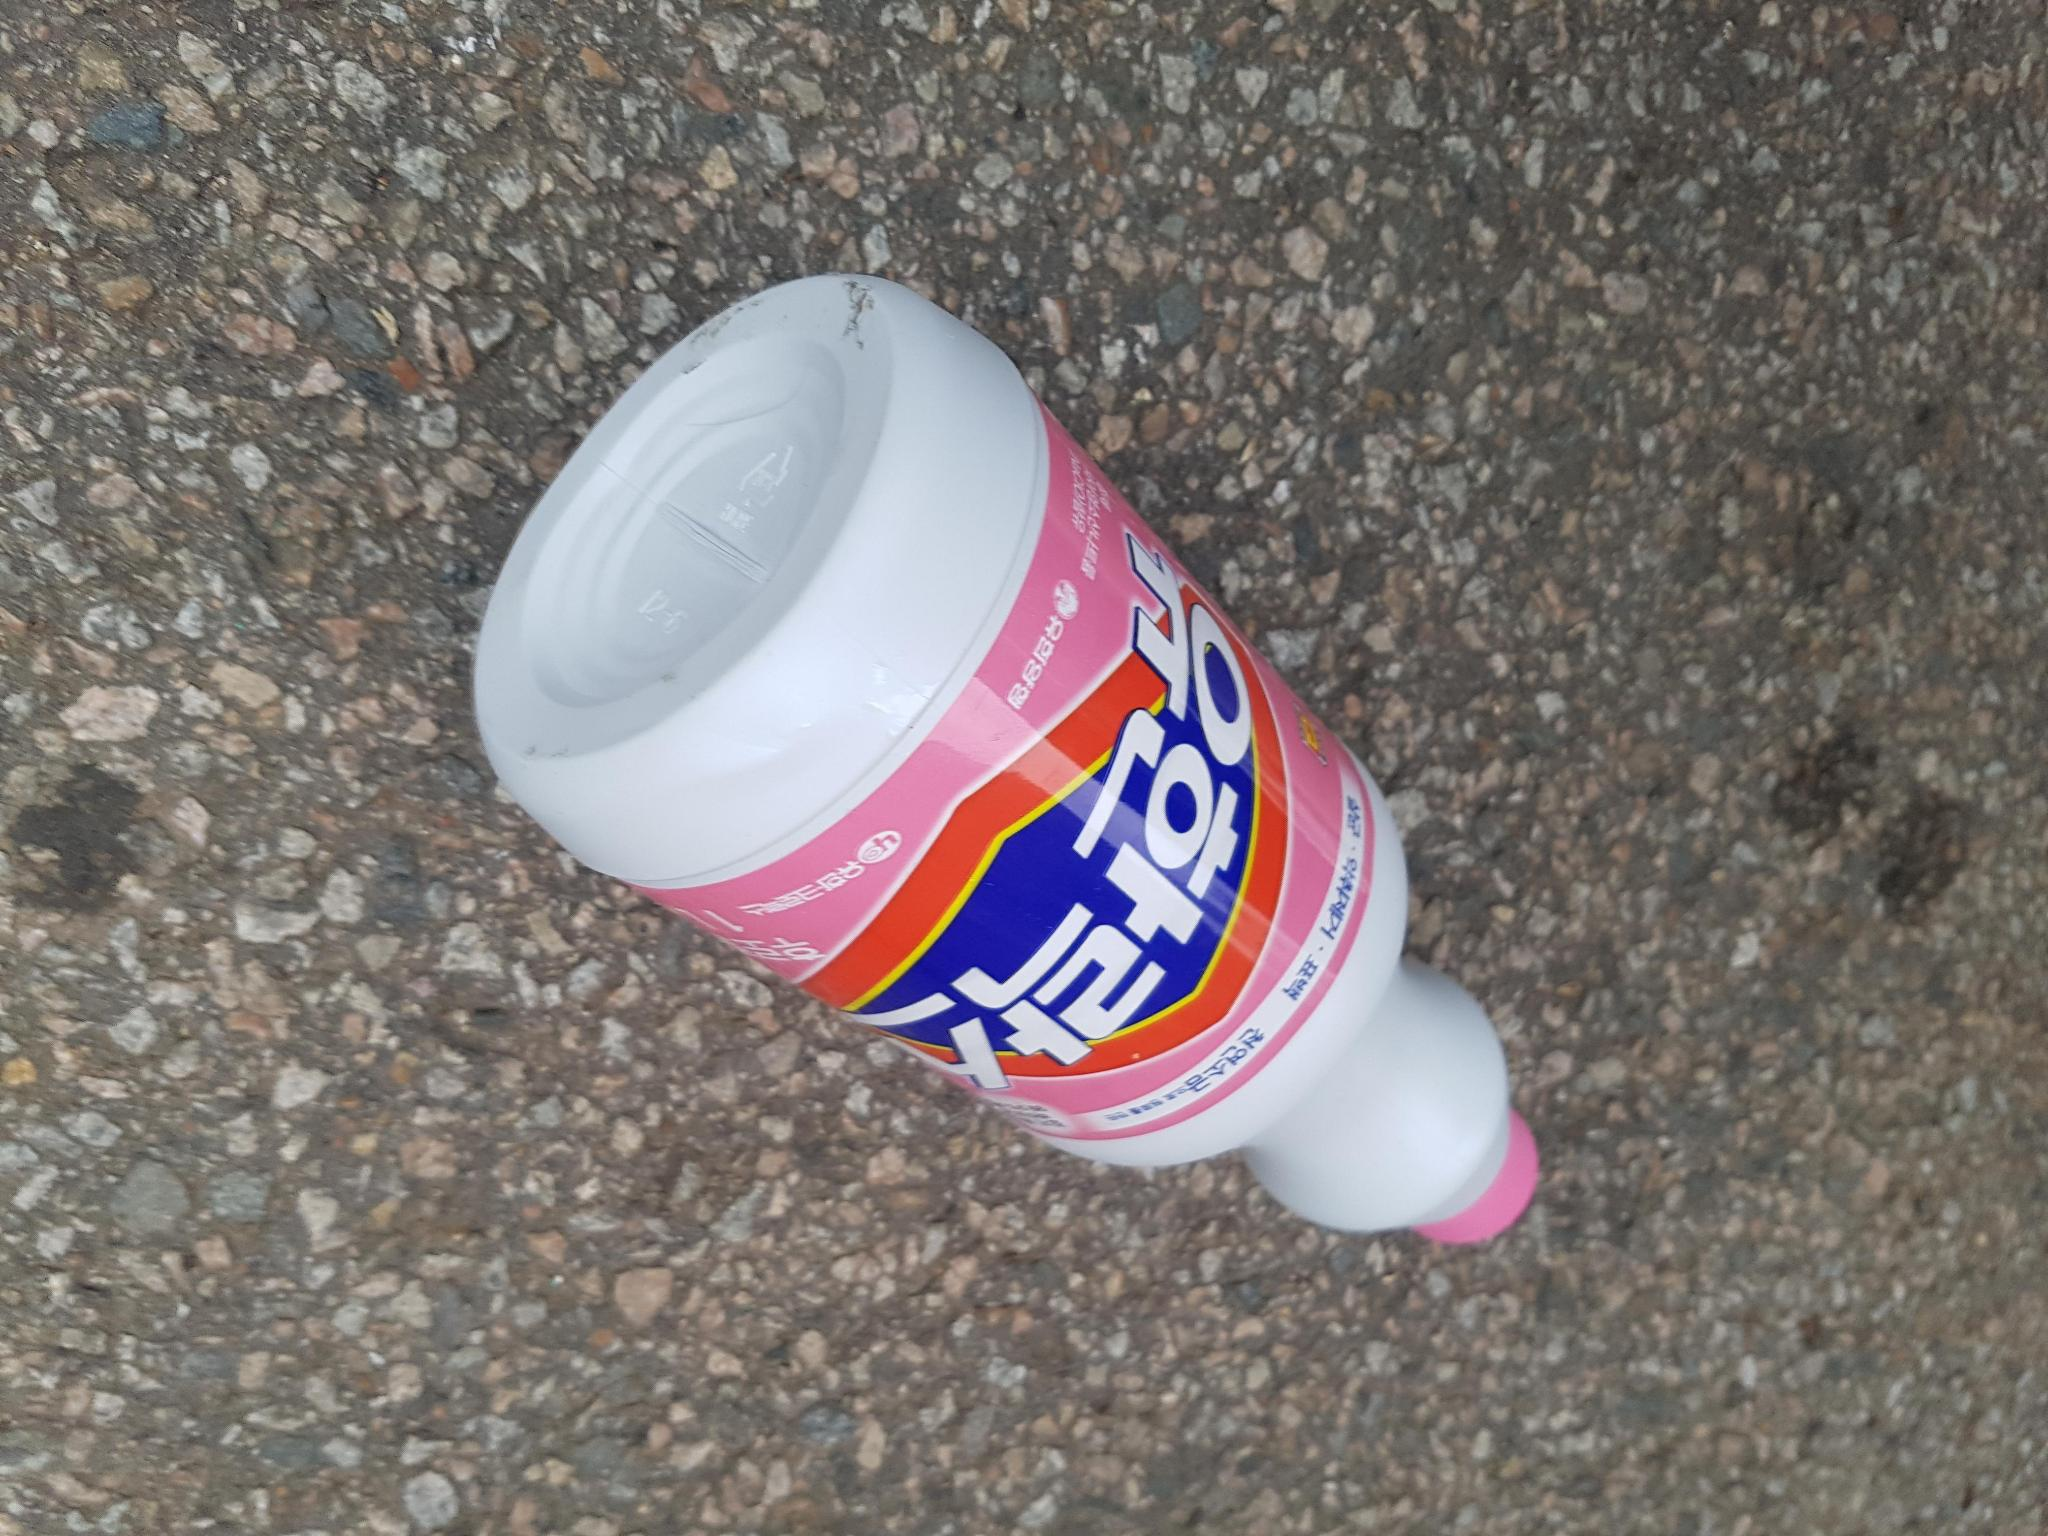bottle: (469, 244, 1550, 1250)
